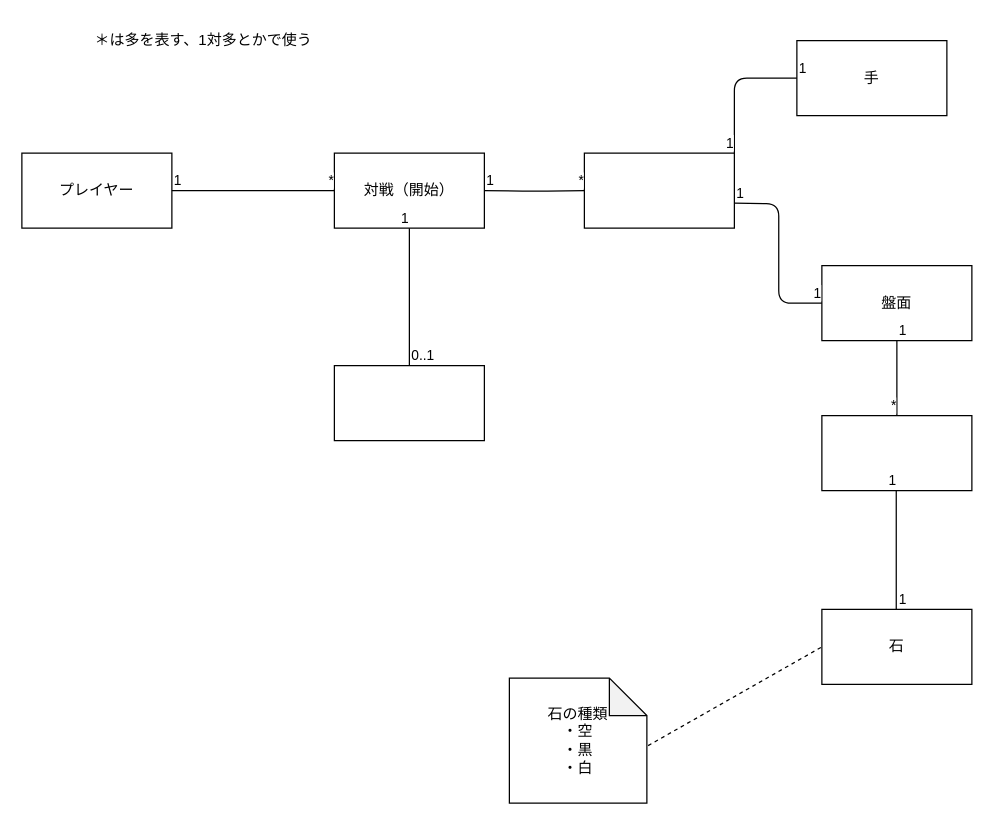
The diagram is 994 pixels wide and 825 high, and some of its shapes have lost their labels. The centre of each missing label's shape, as x and y in pixels:
ターン: point 658,190
マス目: point 896,452
対戦結果: point 408,402
